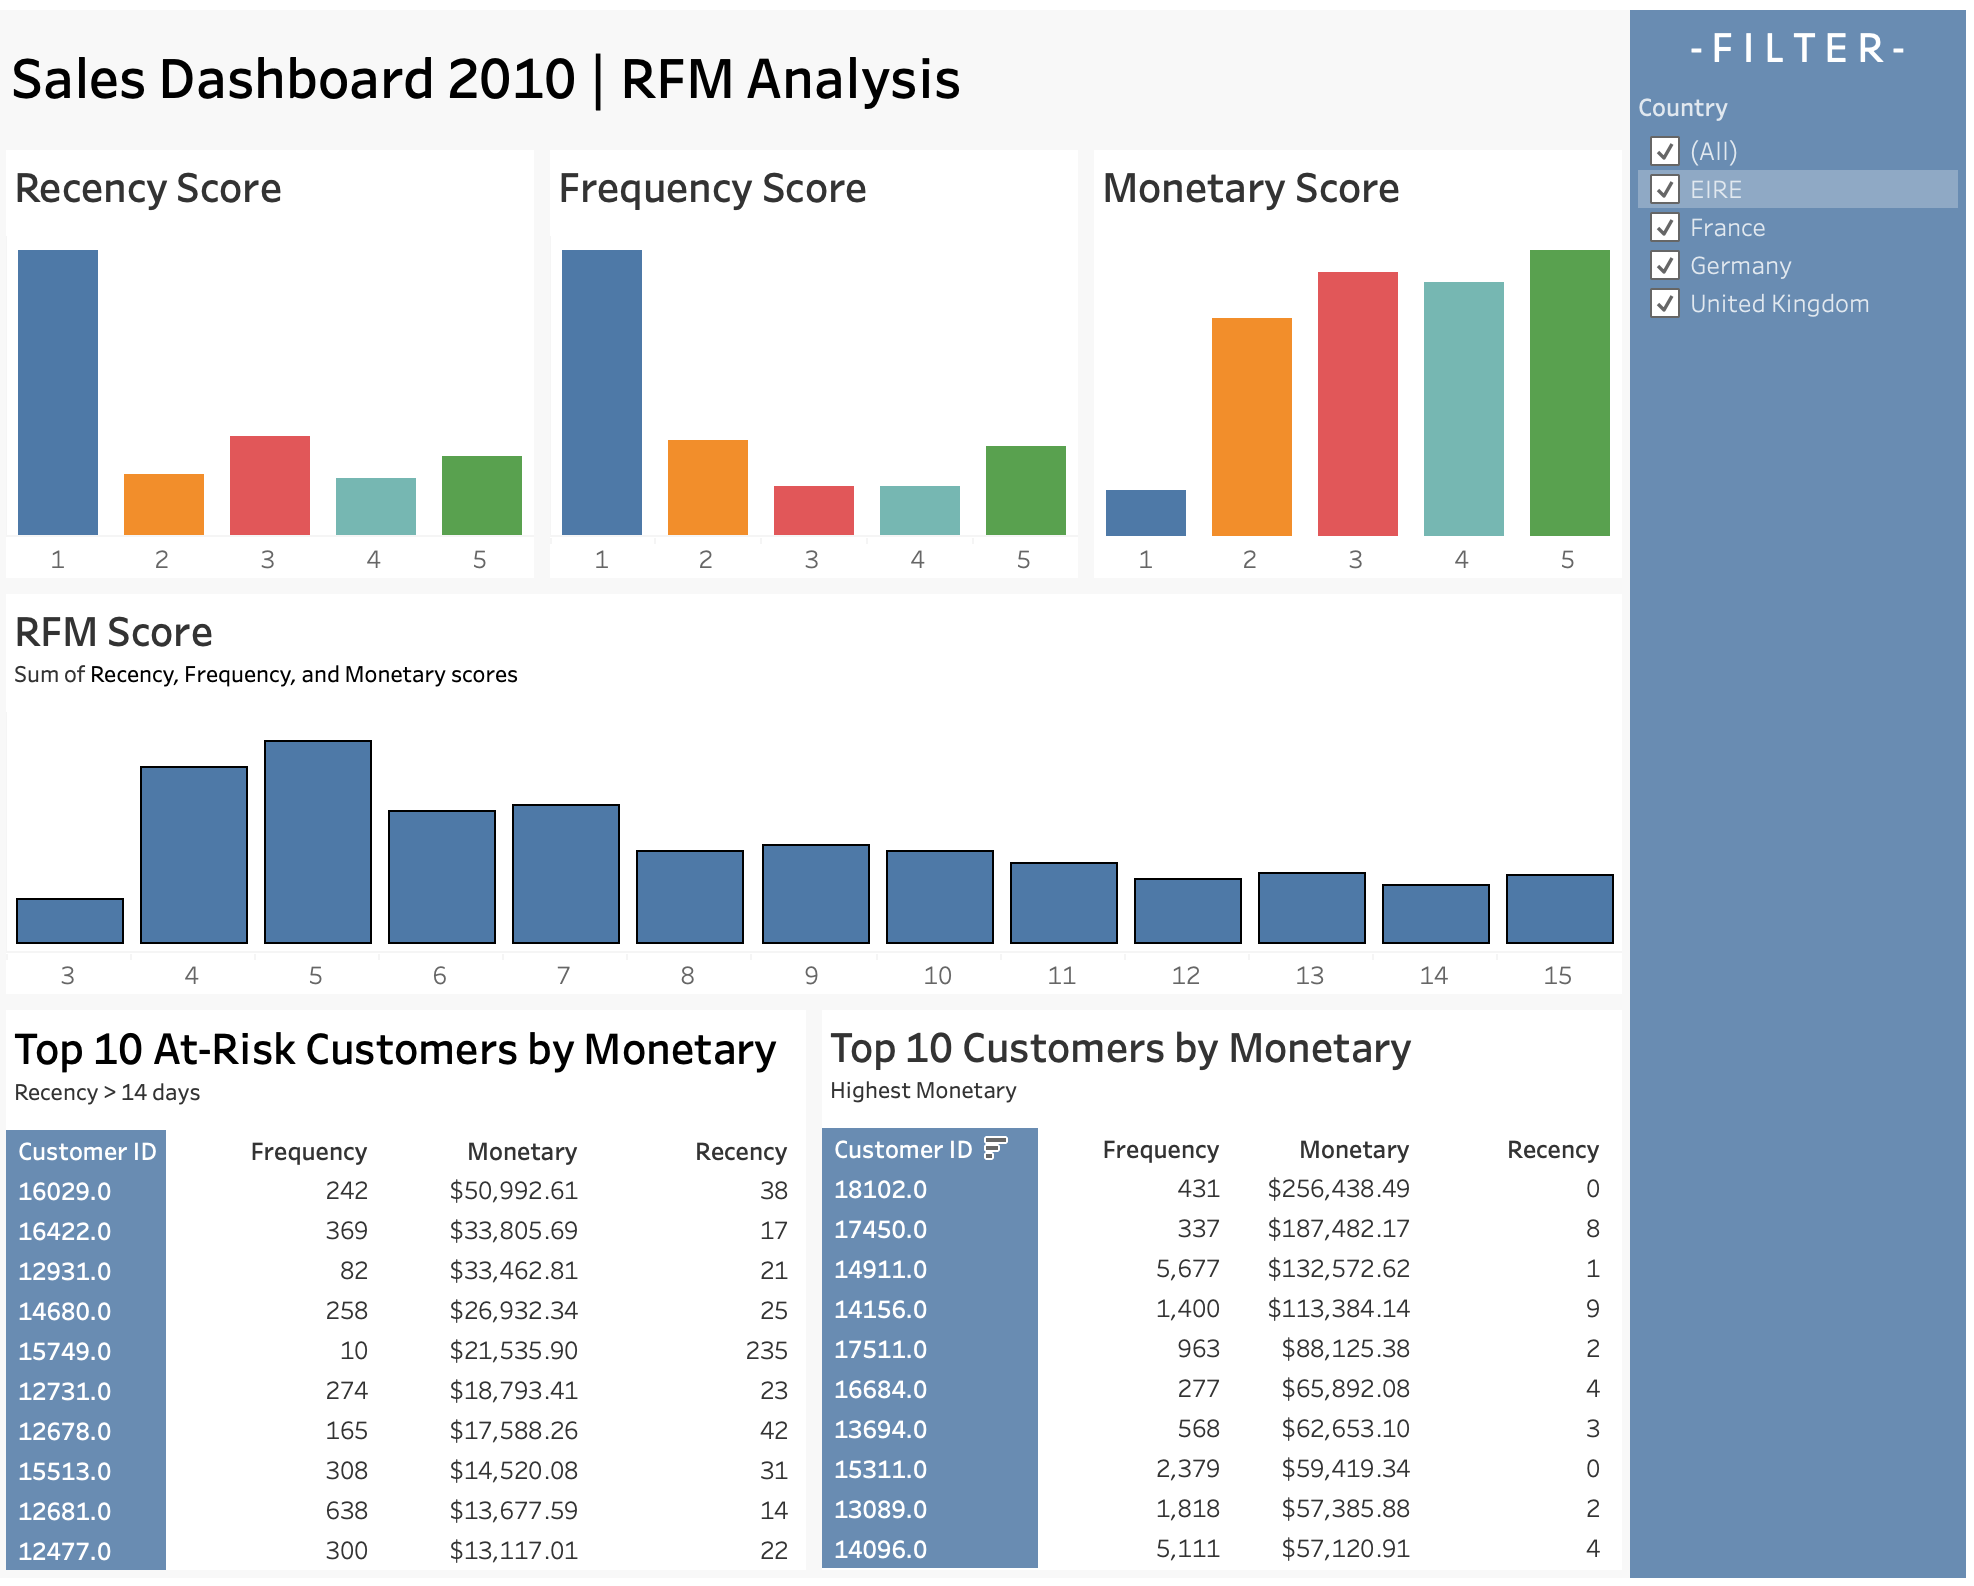

This screenshot's page, from the dashboard's own definition file:
{"tool":"tableau","page":{"name":"Dashboard 1","canvas":[1000,800],"ordinal":0},"visuals":[{"type":"text","box":[8,8,816,66]},{"type":"text","box":[824,8,168,36]},{"type":"filter","title":"Top 10 customers based on Monetary","param":"[federated.0xyjea31u8nuky167asxu0eah4h7].[none:Country:nk]","box":[824,44,168,127]},{"type":"worksheet","title":"Recency Score","mark":"Automatic","rows":["CustomerID"],"cols":["Calculation_1087971216601387016"],"box":[8,74,272,222]},{"type":"worksheet","title":"Frequency Score","mark":"Bar","rows":["CustomerID"],"cols":["Recency Segment (copy)_1087971216601755657"],"box":[280,74,272,222]},{"type":"worksheet","title":"Monetary Score","mark":"Automatic","rows":["CustomerID"],"cols":["Frequency Segment (copy)_1087971216601985034"],"box":[552,74,272,222]},{"type":"worksheet","title":"RFM Score","mark":"Bar","rows":["CustomerID"],"cols":["Calculation_1087971216616169487"],"box":[8,296,816,208]},{"type":"worksheet","title":"Top 10 At-Risk Customers by Monetary Value","mark":"Automatic","rows":["CustomerID"],"box":[8,504,408,288]},{"type":"worksheet","title":"Top 10 customers based on Monetary","mark":"Automatic","rows":["CustomerID"],"box":[416,504,408,288]}]}

Visuals, with their boxes in screenshot pixels (x1, y1, x2, y2), scaled from the page's 1000x800 canvas onto the 1974x1586 screenshot:
text: 16/16/1627/147
text: 1627/16/1958/87
"Top 10 customers based on Monetary" filter: 1627/87/1958/339
"Recency Score" worksheet: 16/147/553/587
"Frequency Score" worksheet (Bar marks): 553/147/1090/587
"Monetary Score" worksheet: 1090/147/1627/587
"RFM Score" worksheet (Bar marks): 16/587/1627/999
"Top 10 At-Risk Customers by Monetary Value" worksheet: 16/999/821/1570
"Top 10 customers based on Monetary" worksheet: 821/999/1627/1570
